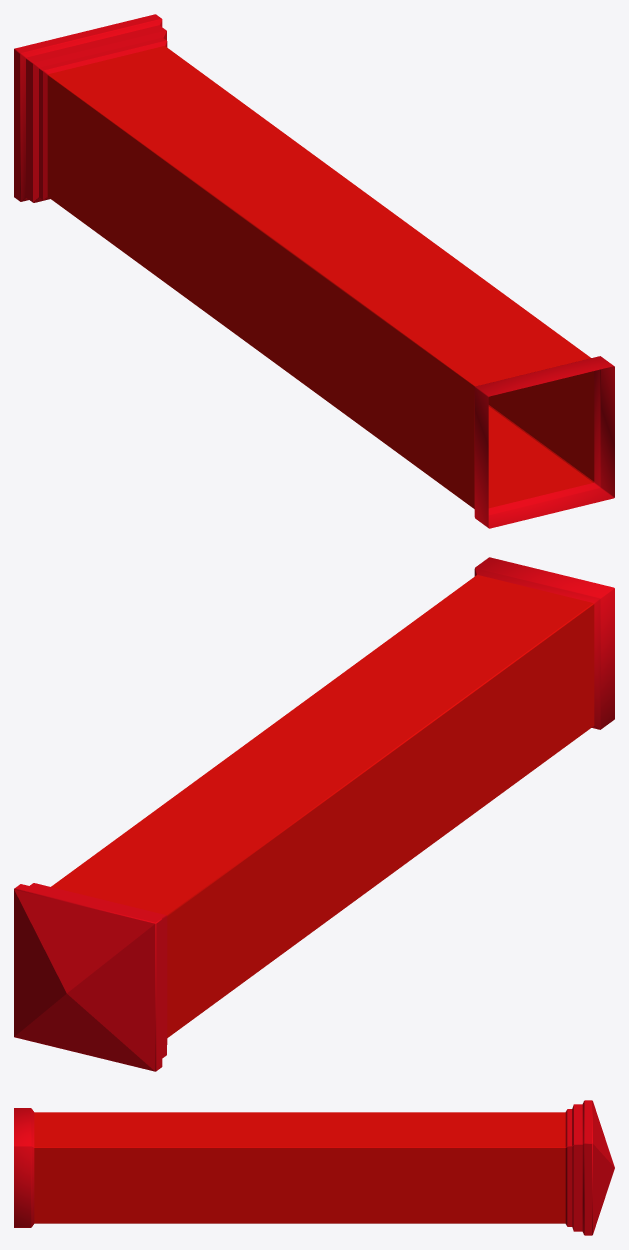
The model's file is SM_Park_wall_B_1.FBX.
3 views of the same model, one above another, from view 1: azimuth 30°, elevation 25°; view 2: azimuth 150°, elevation 25°; view 3: azimuth 270°, elevation 25° (orthographic). The views are drawn at different scales.
Visible parts, largest first — view 1: SM_Park_wall_B_1_LOD0; view 2: SM_Park_wall_B_1_LOD0; view 3: SM_Park_wall_B_1_LOD0.
Boxes of the visible parts, x1=… form: SM_Park_wall_B_1_LOD0: x1=14, y1=14, x2=614, y2=528; SM_Park_wall_B_1_LOD0: x1=14, y1=557, x2=614, y2=1071; SM_Park_wall_B_1_LOD0: x1=14, y1=1100, x2=614, y2=1235.
Size of what is drawn, in the model's own units: 48.38 by 285 by 48.38.
